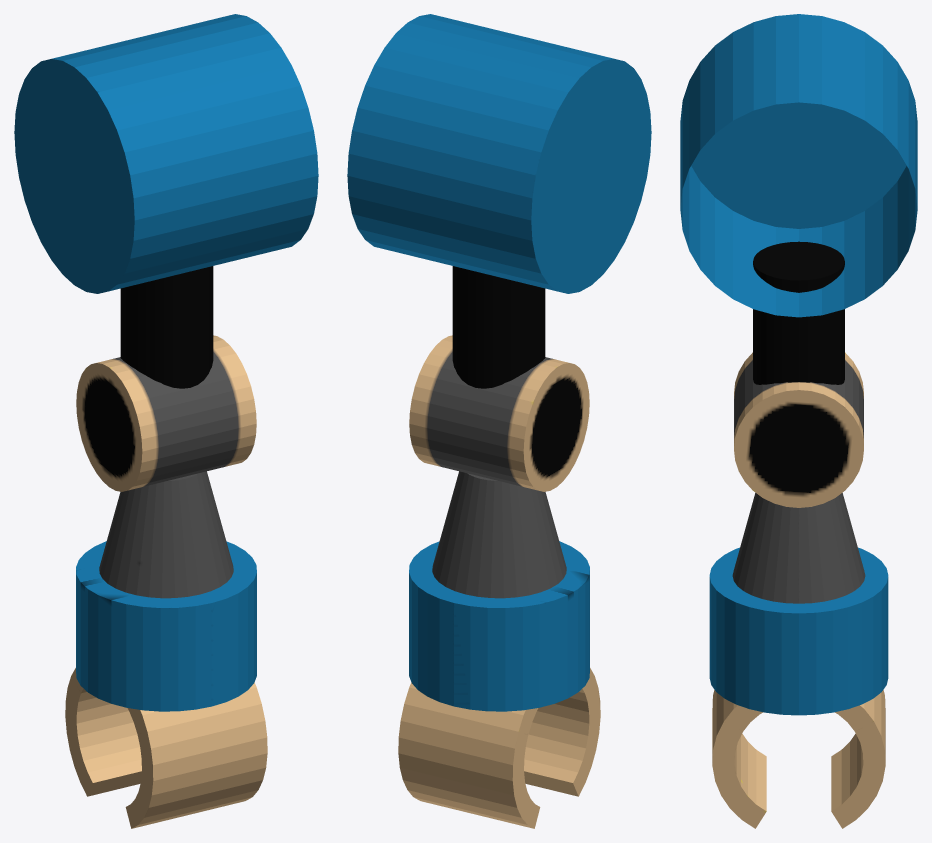
File: Robot_BD.obj
The picture shows the model from 3 angles, left to right: view 1: azimuth 30°, elevation 25°; view 2: azimuth 150°, elevation 25°; view 3: azimuth 270°, elevation 25°; orthographic projection.
Parts seen in each view (by area): view 1: Robot.BD; view 2: Robot.BD; view 3: Robot.BD.
Part boxes in pixels (x1,y1,x2,y2): Robot.BD: (14,14,318,828); Robot.BD: (347,14,651,828); Robot.BD: (680,14,917,828).
Bounding box in the file's own units: 0.4373 × 1.71 × 0.4959.
1 material, 1 textured.
